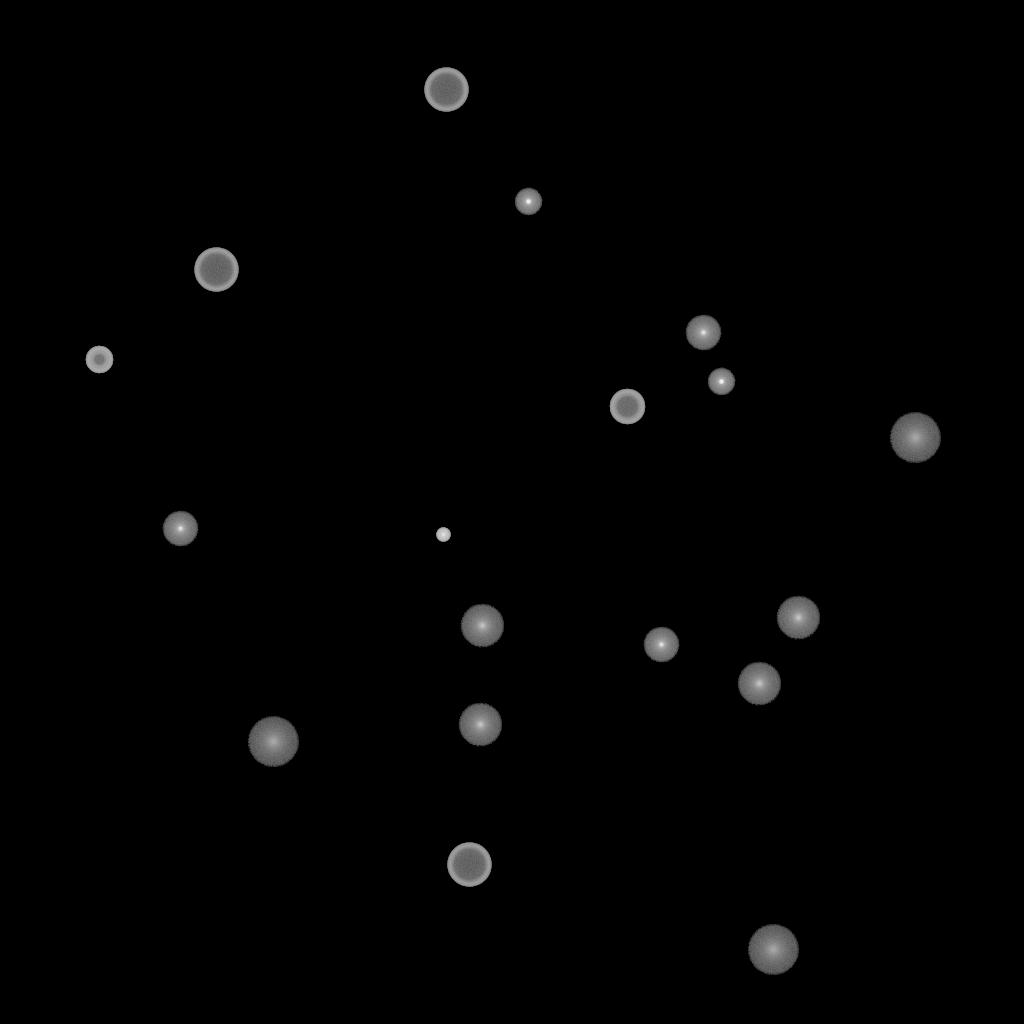depth:-10: (707, 368, 735, 396), (514, 188, 542, 216)
depth:-30: (436, 528, 450, 542)
depth:-50: (85, 346, 113, 374)
depth:-60: (609, 389, 645, 425)
depth:-70: (424, 68, 468, 112), (194, 248, 238, 292), (447, 843, 491, 887)
depth:0: (685, 315, 721, 351), (643, 627, 679, 663), (162, 511, 198, 547)
depth:10: (737, 662, 781, 706), (460, 604, 504, 648), (776, 596, 820, 640), (458, 703, 502, 747)
depth:20: (247, 717, 299, 767), (747, 925, 799, 975), (889, 413, 941, 463)
